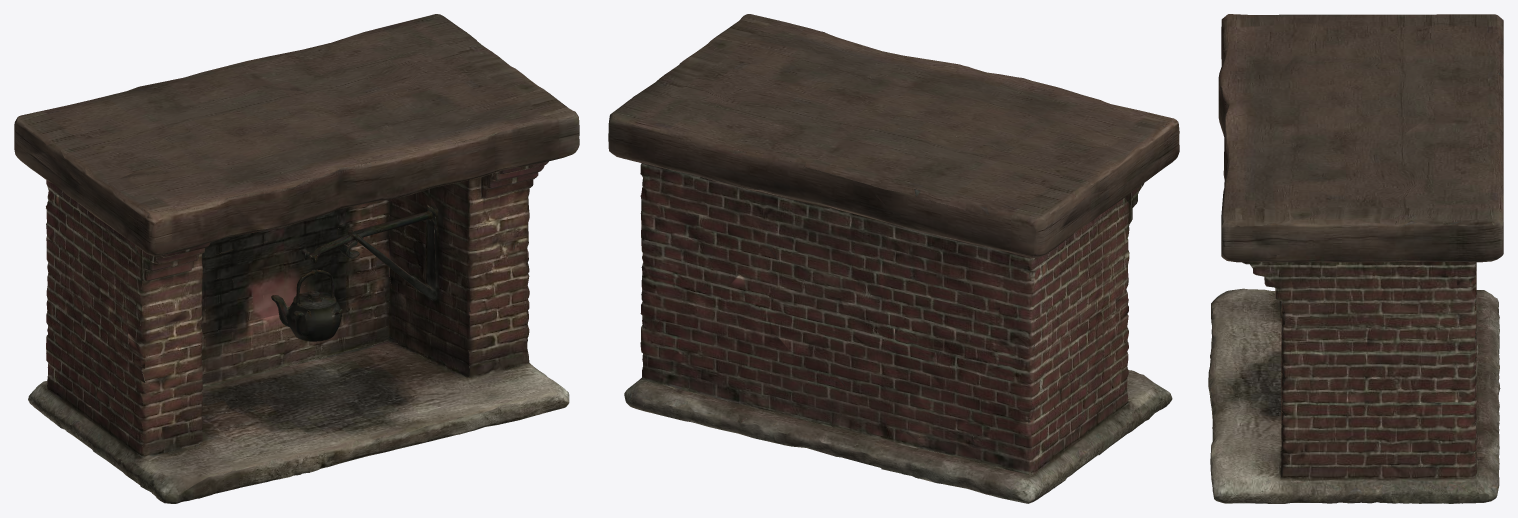
Rendered from hearth-mantel.glb.
3 views of the same model, side by side, from view 1: azimuth 30°, elevation 25°; view 2: azimuth 150°, elevation 25°; view 3: azimuth 270°, elevation 25° (orthographic).
Visible parts, largest first — view 1: Mesh_0; view 2: Mesh_0; view 3: Mesh_0.
Boxes of the visible parts, bbox=[...] form: Mesh_0: bbox=[14, 14, 579, 503]; Mesh_0: bbox=[608, 14, 1179, 503]; Mesh_0: bbox=[1208, 14, 1503, 503].
Bounding box in the file's own units: 1.9 × 1.22 × 1.13.
Materials: 1 (1 with a texture image).
